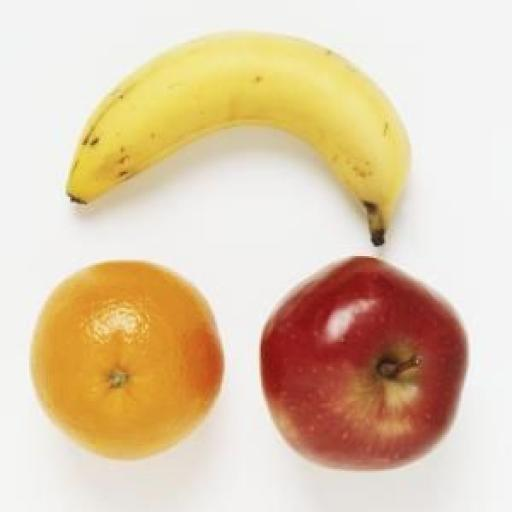apple: (262, 258, 467, 469)
banana: (67, 33, 409, 245)
orange: (31, 262, 223, 458)
